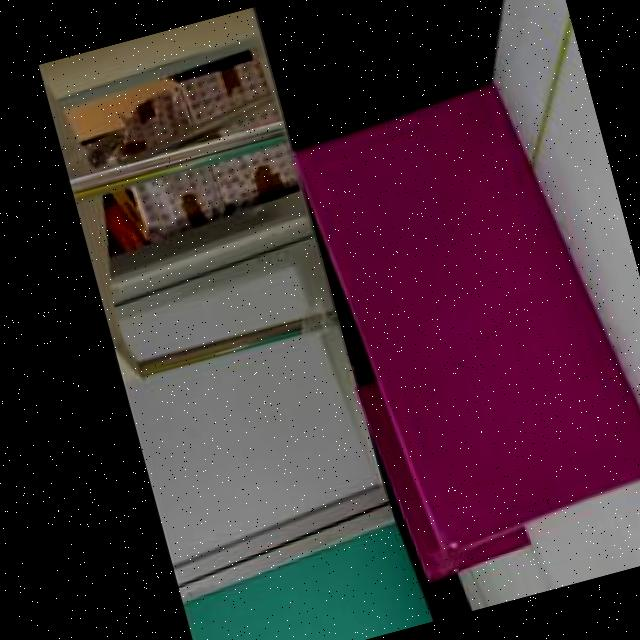xparking: (293, 84, 640, 554), (420, 533, 532, 580)
